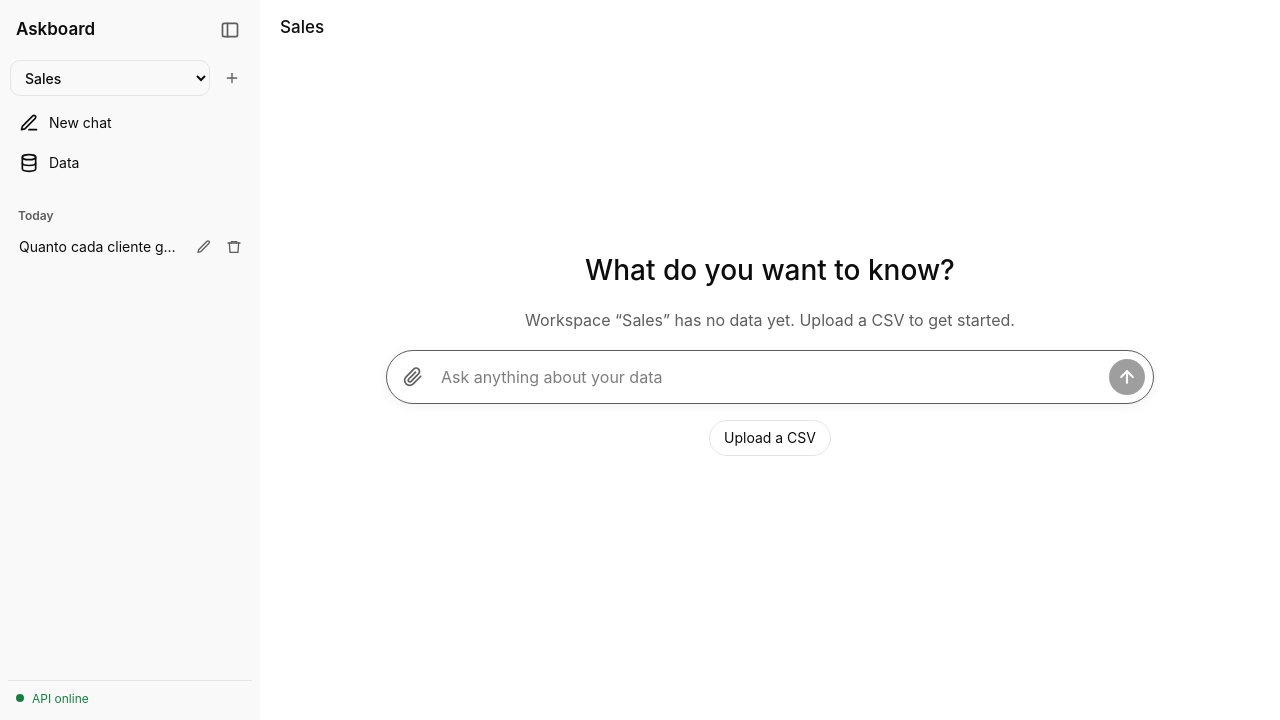
Test: App › opens a chat from the sidebar and goes back to a new chat
The width and height of the screenshot is (1280, 720).
Step 1. Click the button "Quanto cada cliente gastou?" → (99, 247), box [8,229,190,266]
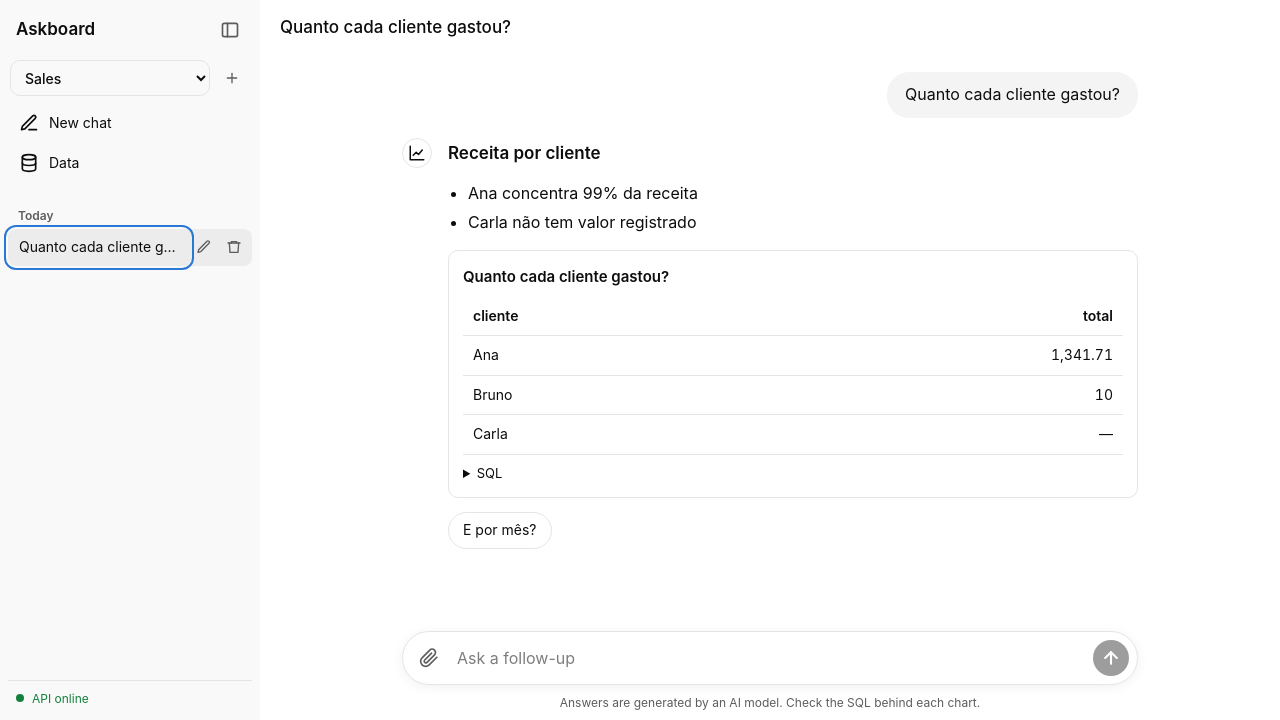
Now the heading "Receita por cliente" is shown, box [448,143,601,163]
Step 2. Click the button "New chat" → (130, 123), box [8,104,252,142]
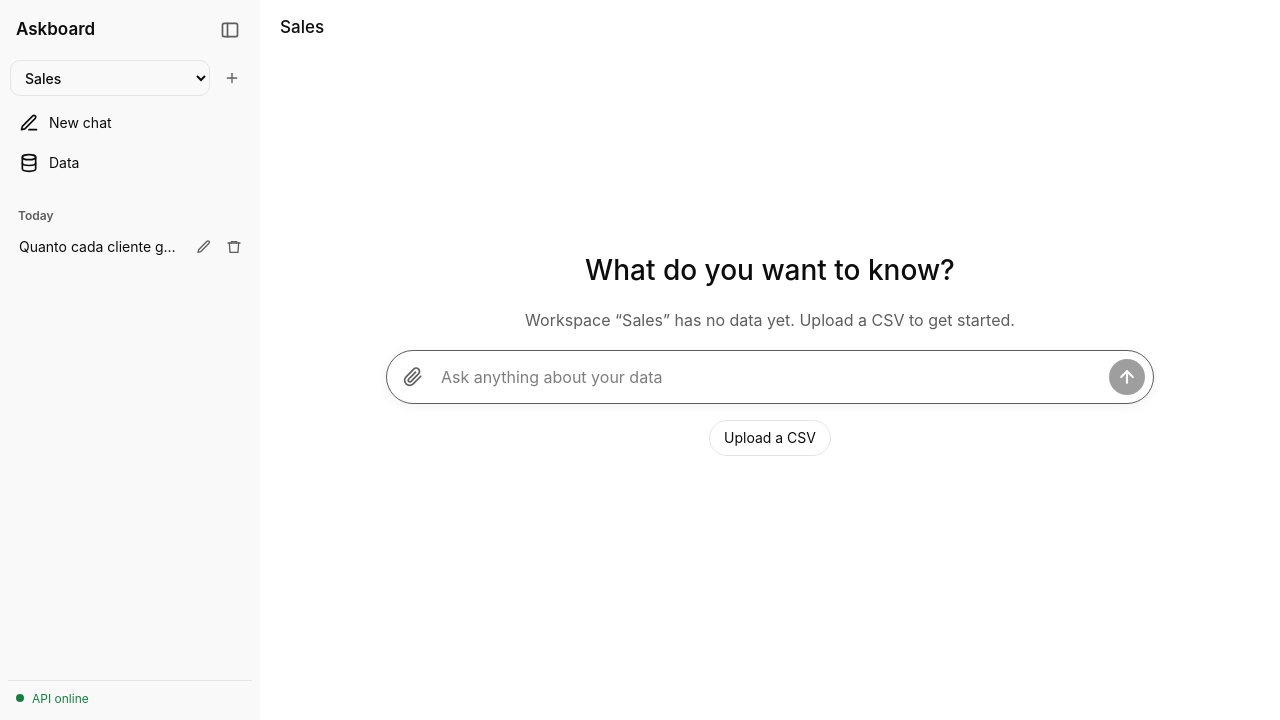
Now the heading "What do you want to know?" is shown, box [585,253,955,287]
